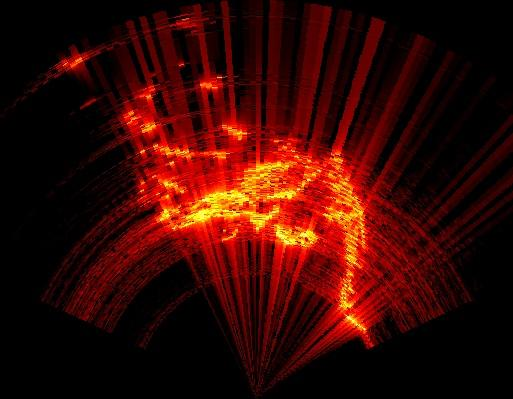shipwreck: (125, 85, 368, 323)
